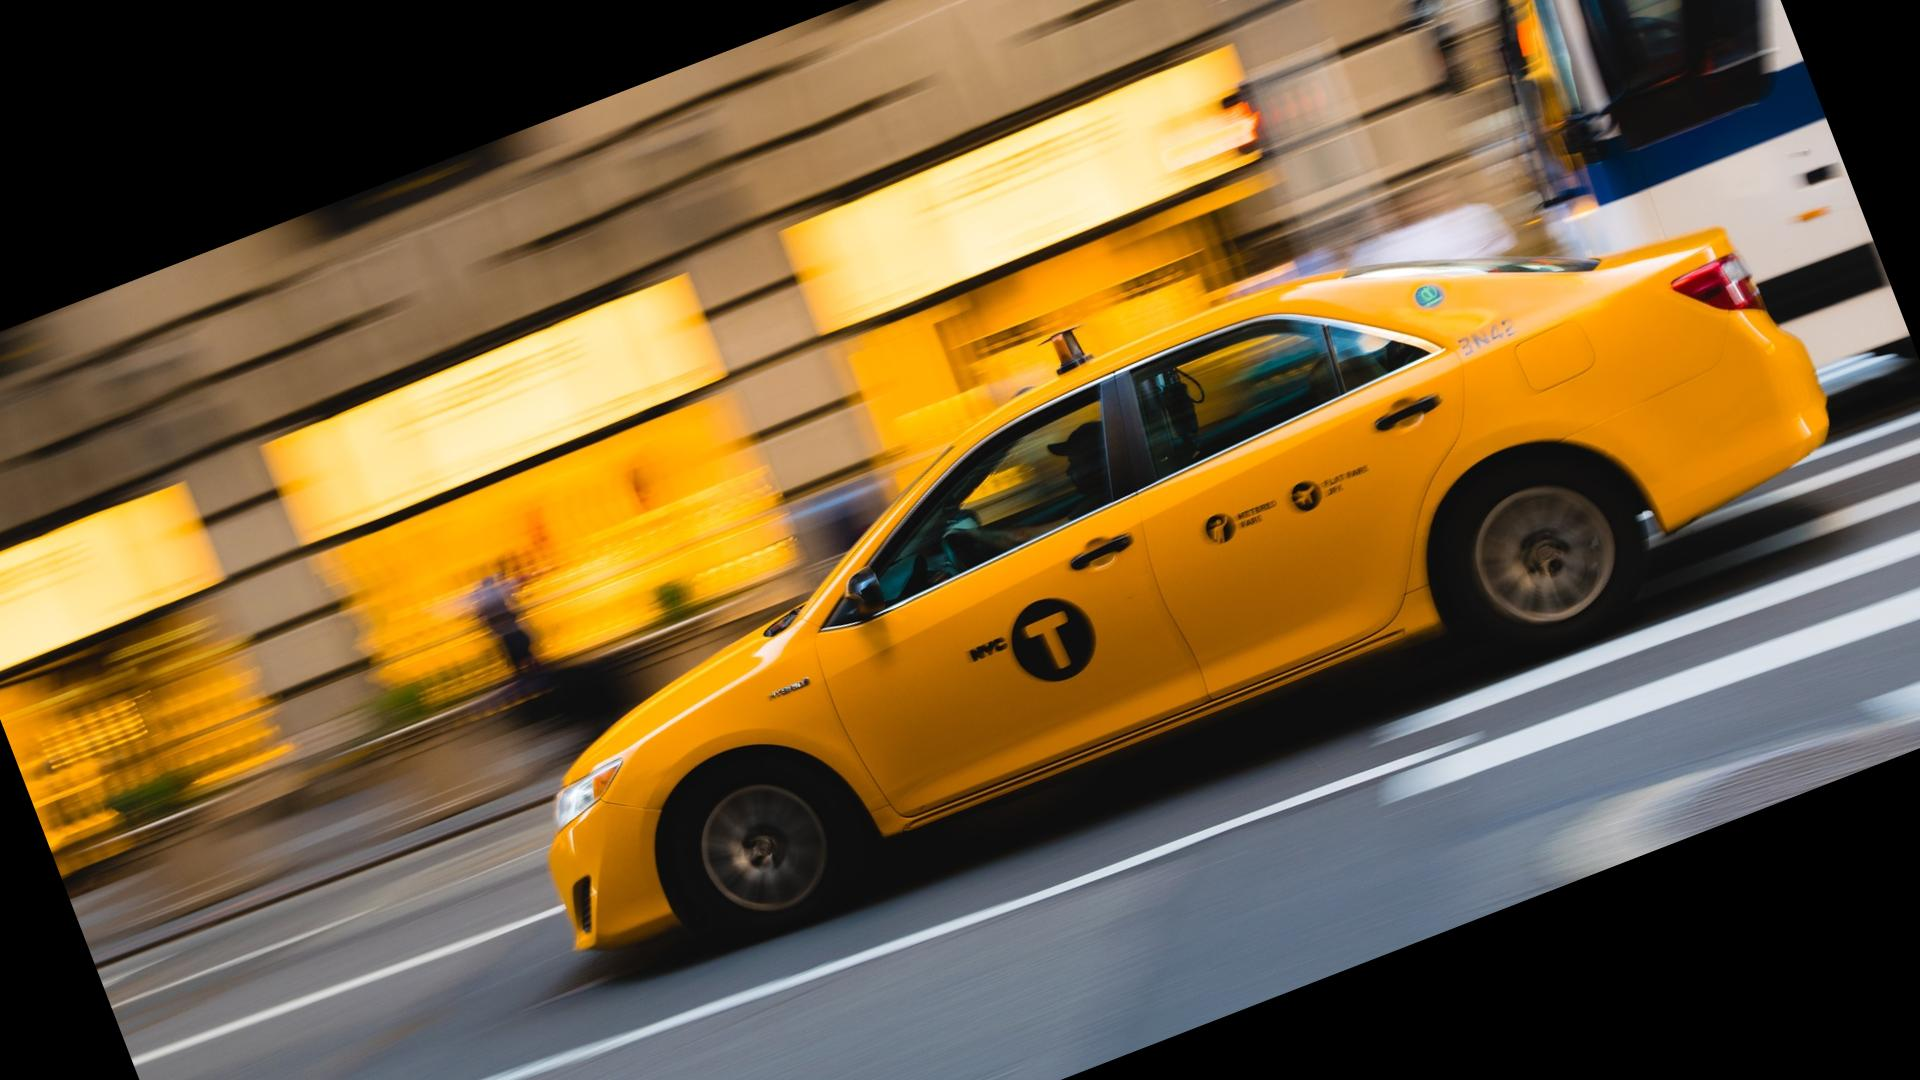taxi: (531, 225, 1838, 985)
